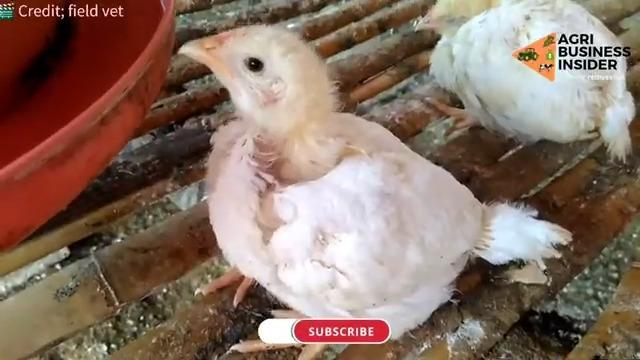Normal: (180, 23, 401, 308)
